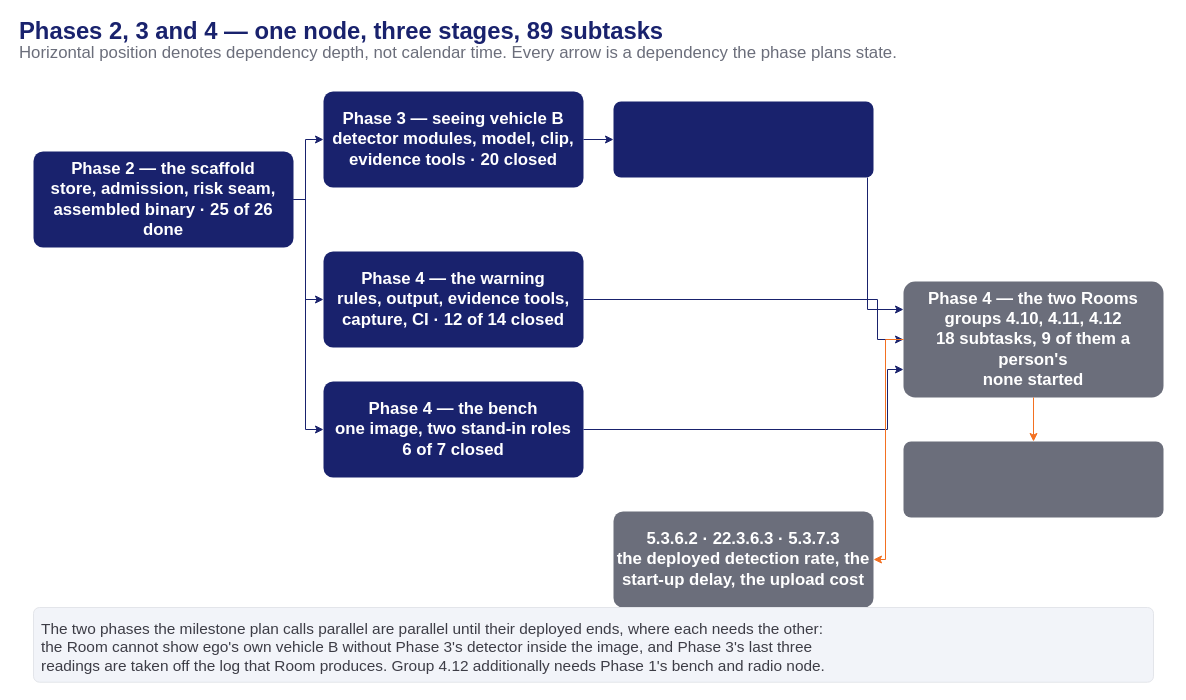
The diagram is 1186 pixels wide and 700 high, and some of its shapes have lost their labels. The shapes that lost their labels are listed below. From the top down, each one's box as (x1, y1, x2, y2) in pixels, then its label:
(613, 101, 873, 177): 5.3.6.1 the detector and the model inside the node image
(903, 441, 1163, 517): 15.4.6.5 the recorded traffic, read off the Room's log
